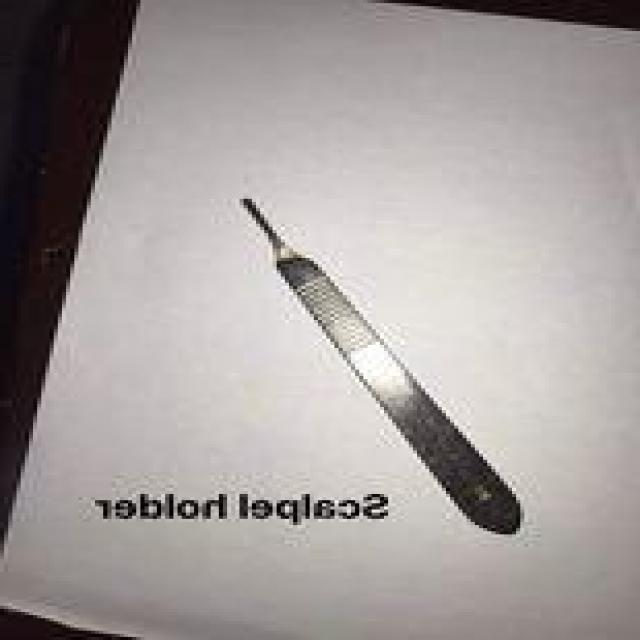Scalpel: (236, 192, 528, 538)
